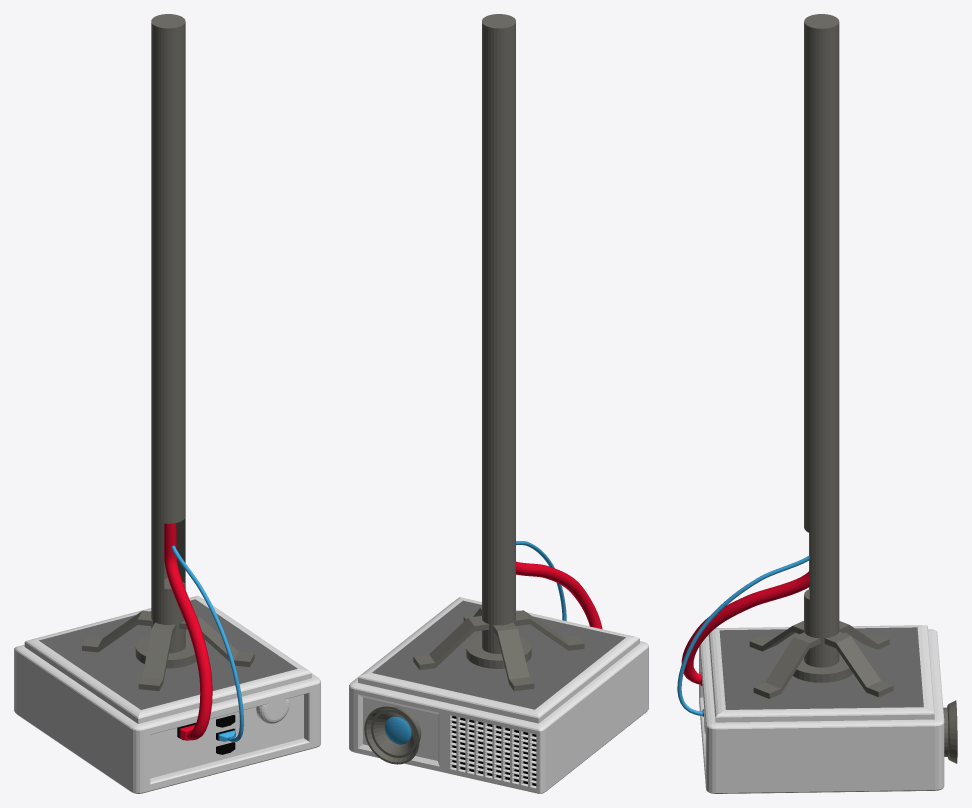
The model's file is R_projection.glb.
3 renders of one model, left to right at view 1: azimuth 30°, elevation 25°; view 2: azimuth 150°, elevation 25°; view 3: azimuth 270°, elevation 25°, orthographic. The views are drawn at different scales.
Parts seen in each view (by area): view 1: Cube.020, Cylinder.015, BezierCurve.010, Cube.052, BezierCurve.009, Cube.053, Cube.055, Cylinder.013; view 2: Cube.020, Cylinder.015, Cylinder.014, Cube.055, BezierCurve.010, Cube.054, Cube.052, Sphere.002; view 3: Cube.020, Cylinder.015, BezierCurve.010, Cube.053, Cube.054, BezierCurve.009, Cylinder.014, Cube.052, Cube.055.
Boxes of the visible parts, bbox=[...] form: Cube.020: bbox=[14, 595, 320, 793]; Cylinder.015: bbox=[135, 14, 196, 668]; BezierCurve.010: bbox=[164, 523, 212, 740]; Cube.052: bbox=[138, 622, 175, 690]; BezierCurve.009: bbox=[171, 545, 243, 742]; Cube.053: bbox=[179, 615, 254, 666]; Cube.055: bbox=[82, 610, 152, 652]; Cylinder.013: bbox=[256, 690, 289, 723]; Cube.020: bbox=[349, 597, 648, 793]; Cylinder.015: bbox=[466, 14, 531, 668]; Cylinder.014: bbox=[364, 706, 421, 764]; Cube.055: bbox=[493, 622, 534, 691]; BezierCurve.010: bbox=[516, 561, 602, 629]; Cube.054: bbox=[413, 616, 489, 669]; Cube.052: bbox=[515, 610, 584, 650]; Sphere.002: bbox=[385, 716, 411, 744]; Cube.020: bbox=[699, 625, 944, 793]; Cylinder.015: bbox=[793, 14, 852, 682]; BezierCurve.010: bbox=[681, 571, 809, 684]; Cube.053: bbox=[753, 632, 820, 698]; Cube.054: bbox=[824, 631, 893, 697]; BezierCurve.009: bbox=[677, 555, 809, 715]; Cylinder.014: bbox=[943, 700, 957, 763]; Cube.052: bbox=[749, 621, 803, 651]; Cube.055: bbox=[839, 621, 889, 649].
Size of the model in its own units: 21.67 by 73.81 by 25.86.
